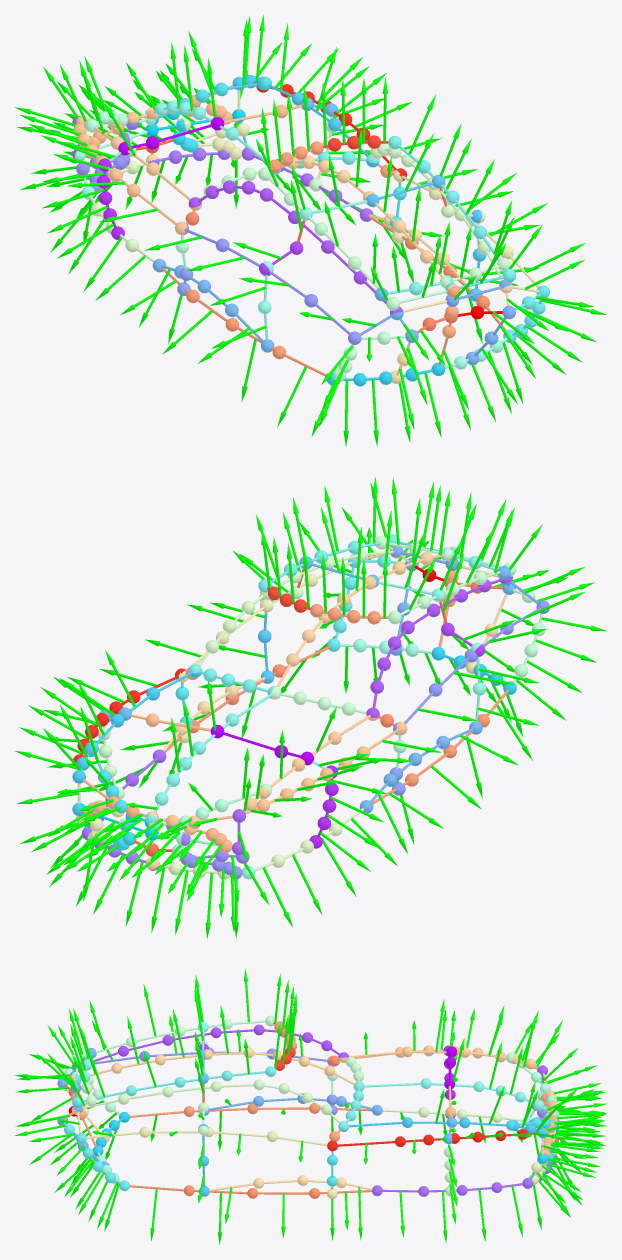
File: ils_car2.gltf
3 views of the same model, one above another, from view 1: azimuth 30°, elevation 25°; view 2: azimuth 150°, elevation 25°; view 3: azimuth 270°, elevation 25° (orthographic). The views are drawn at different scales.
Size of the model in its own units: 0.5818 by 0.4123 by 1.08.
